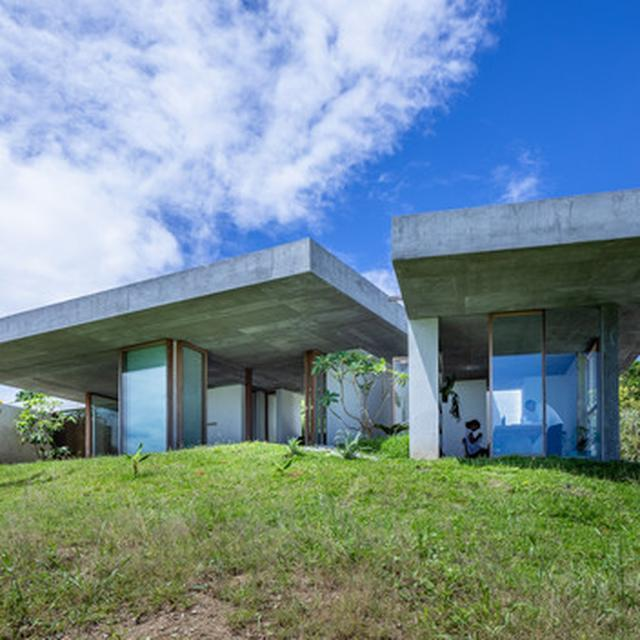building: (0, 230, 405, 461), (387, 198, 640, 478)
